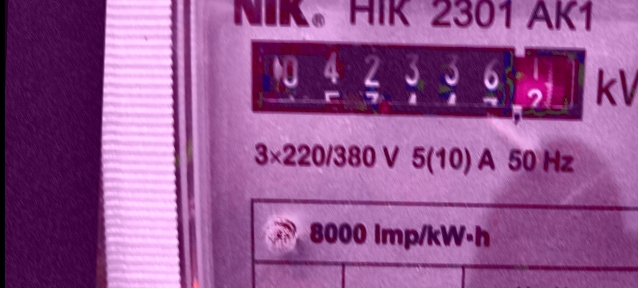0: (279, 52, 300, 88)
1: (527, 52, 541, 81)
2: (360, 51, 381, 88), (523, 86, 543, 107)
3: (401, 48, 421, 87), (439, 50, 460, 86)
4: (320, 46, 340, 84)
6: (478, 54, 501, 90)
screen: (239, 26, 595, 131)
